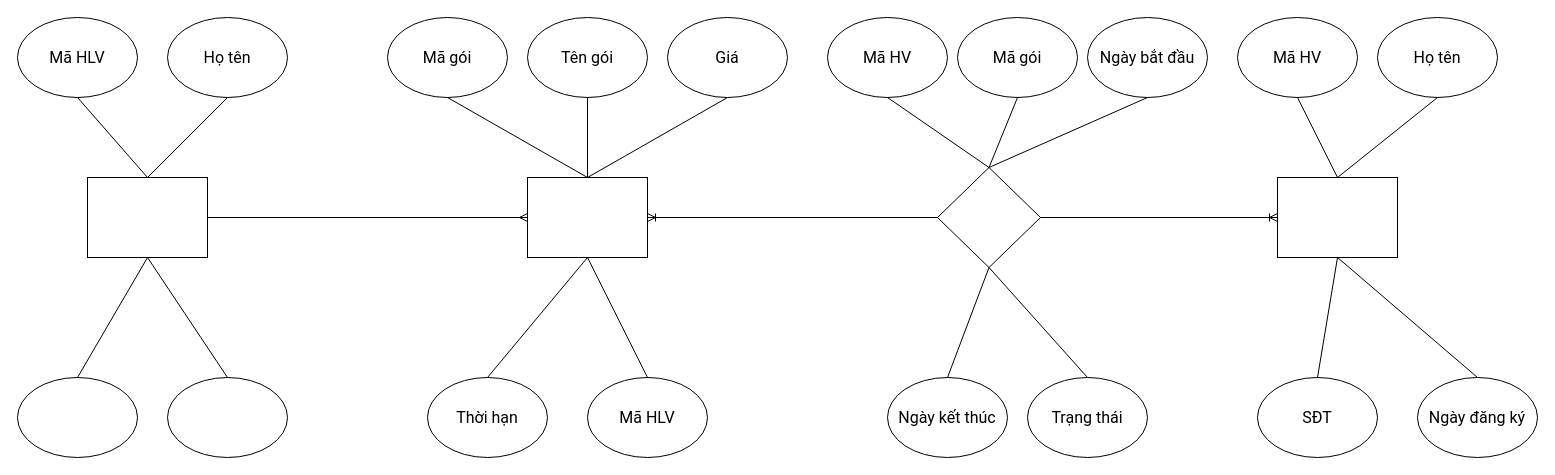
This 1555x475 diagram has some shape labels left out. The box of each missing label's shape, as (x1, y1, x2, y2) in pixels:
Member: (1276, 176, 1398, 258)
Package: (526, 176, 648, 258)
Registration: (936, 166, 1040, 268)
Trainer: (86, 176, 208, 258)
